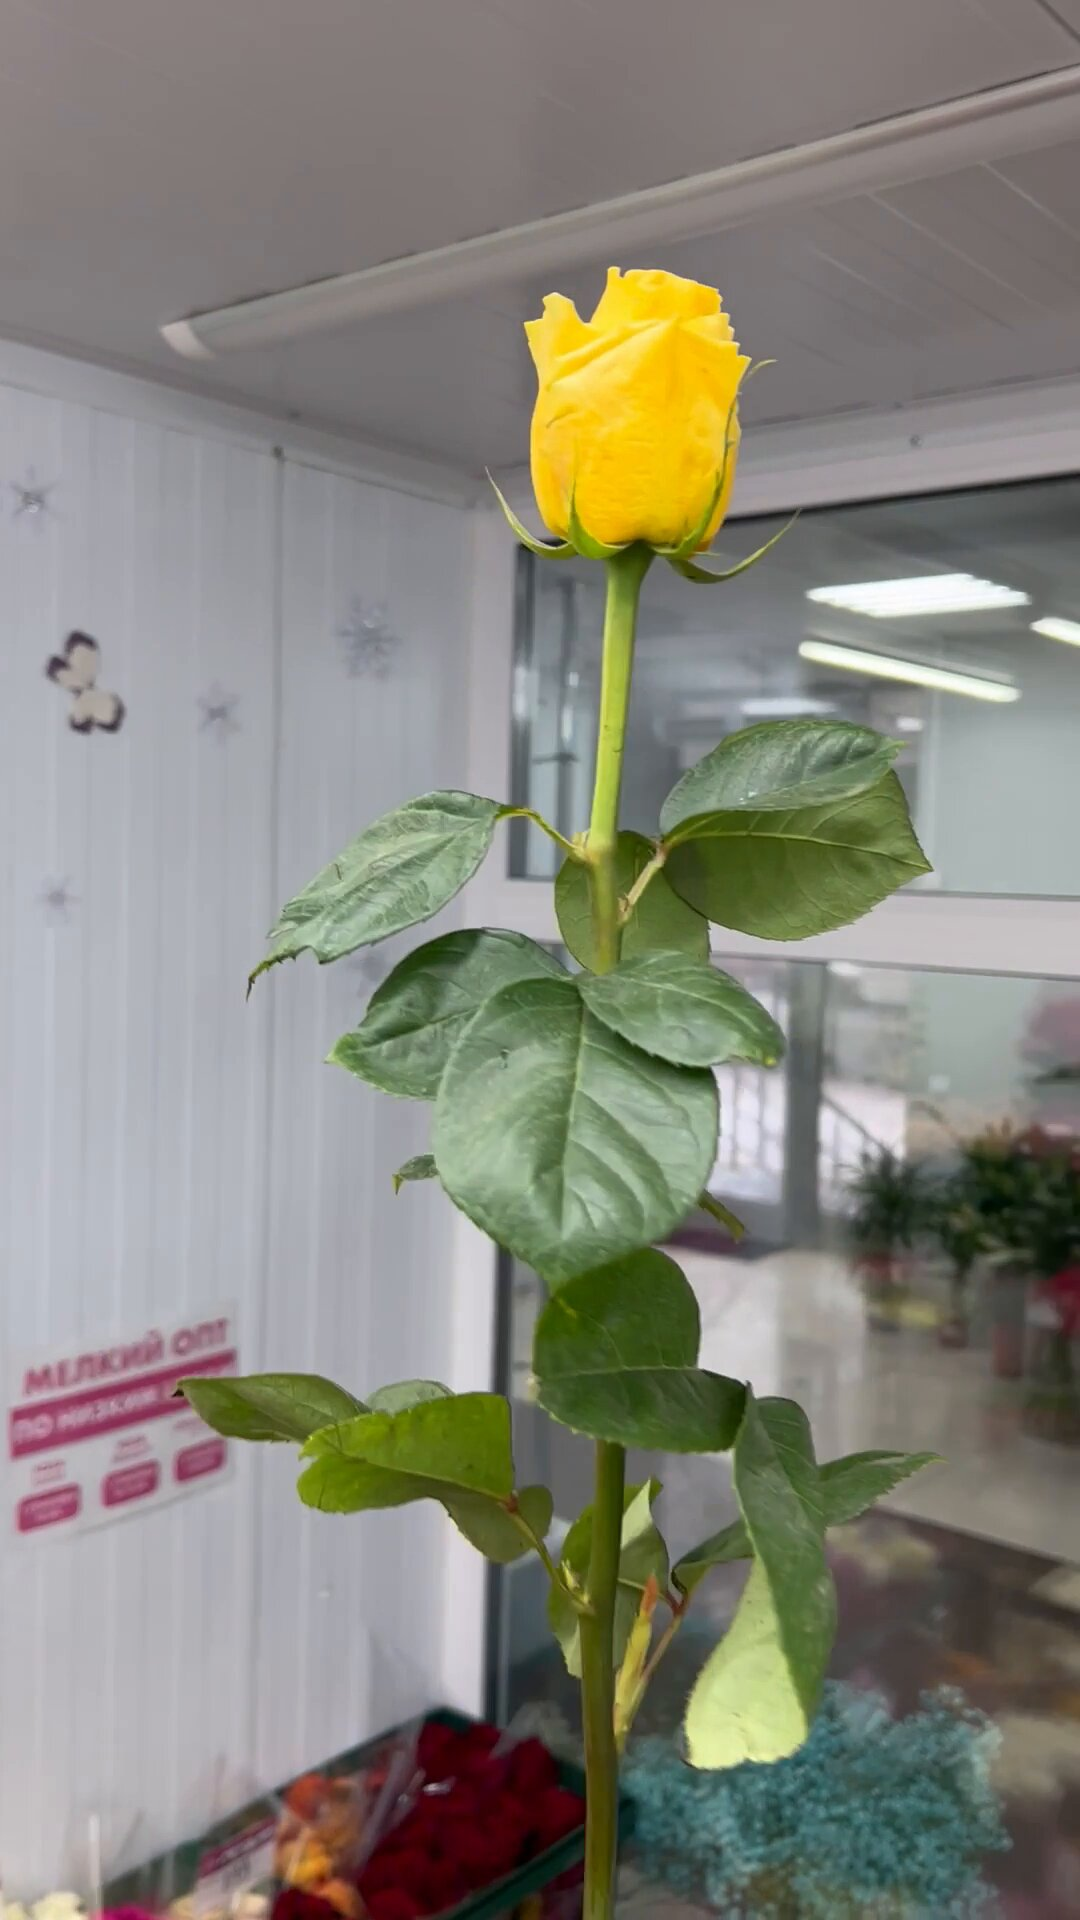rose: (324, 255, 927, 1818)
